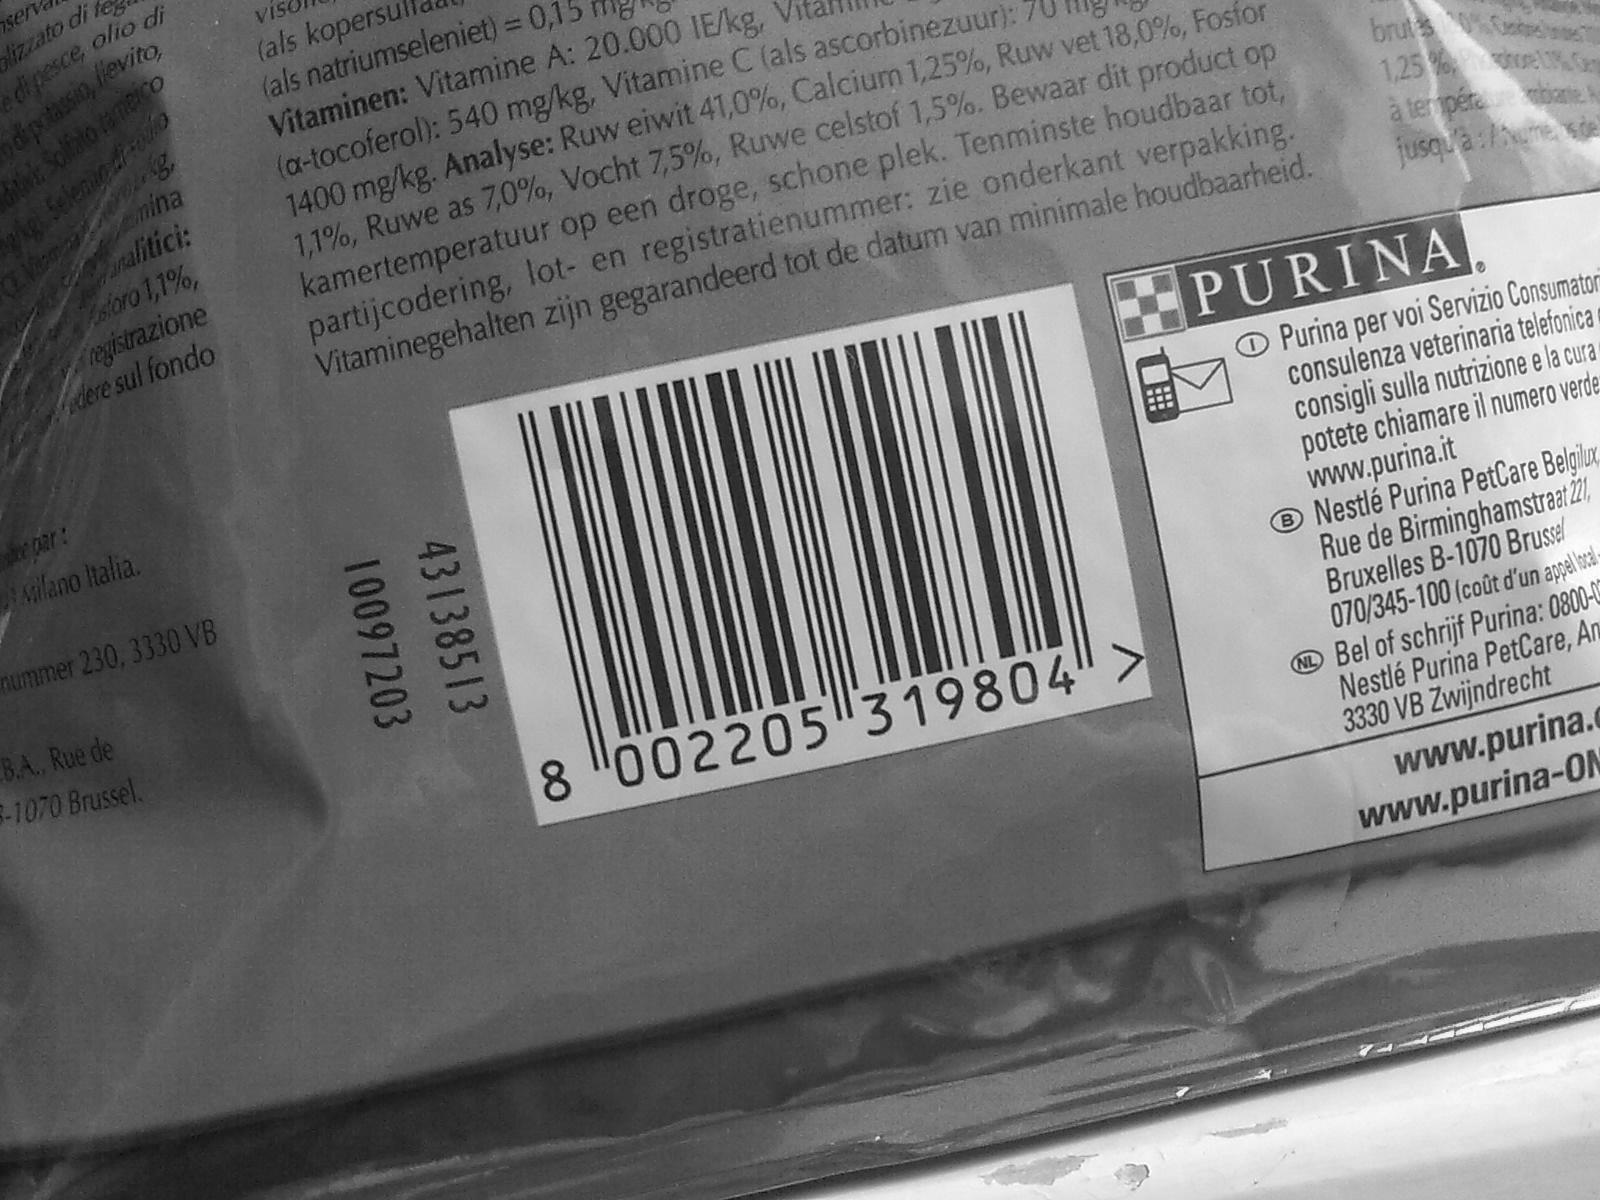Barcode: (513, 304, 1099, 778)
